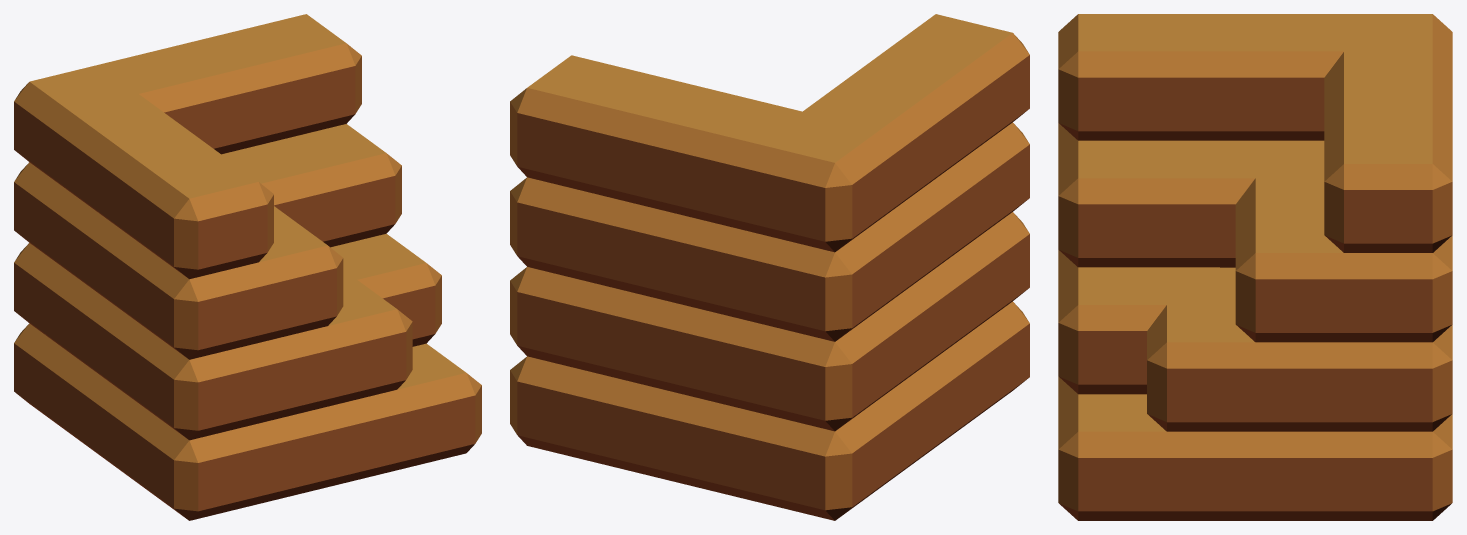
File: m_kub_wood_stairs_piled_cornerIn.FBX
The picture shows the model from 3 angles, left to right: view 1: azimuth 30°, elevation 25°; view 2: azimuth 150°, elevation 25°; view 3: azimuth 270°, elevation 25°; orthographic projection. The views are drawn at different scales.
Parts seen in each view (by area): view 1: m_kub_wood_stairs_piled_cornerIn; view 2: m_kub_wood_stairs_piled_cornerIn; view 3: m_kub_wood_stairs_piled_cornerIn.
Part boxes in pixels (x1,y1,x2,y2): m_kub_wood_stairs_piled_cornerIn: (14, 14, 481, 520); m_kub_wood_stairs_piled_cornerIn: (510, 14, 1029, 520); m_kub_wood_stairs_piled_cornerIn: (1058, 14, 1452, 520).
Size of the model in its own units: 2 by 2 by 2.
